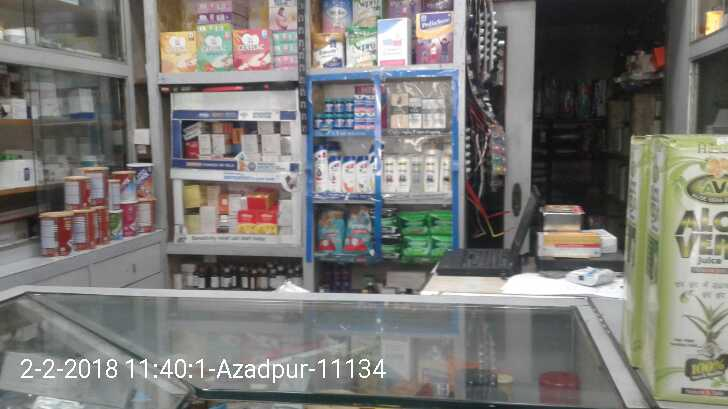vicks: (315, 95, 379, 131)
